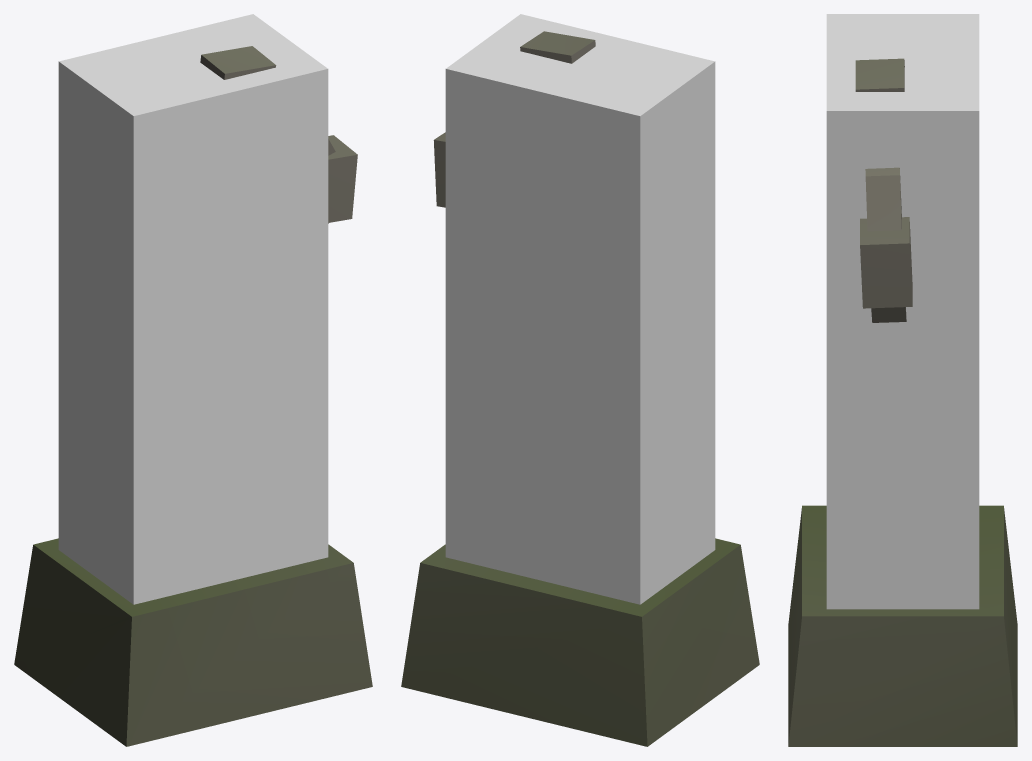
File: grave_cross.glb
3 views of the same model, side by side, from view 1: azimuth 30°, elevation 25°; view 2: azimuth 150°, elevation 25°; view 3: azimuth 270°, elevation 25° (orthographic). The views are drawn at different scales.
Visible parts, largest first — view 1: COL_cross, grave_cross; view 2: COL_cross, grave_cross; view 3: COL_cross, grave_cross.
Boxes of the visible parts, bbox=[...] form: COL_cross: bbox=[58, 14, 328, 604]; grave_cross: bbox=[14, 46, 372, 746]; COL_cross: bbox=[445, 14, 715, 604]; grave_cross: bbox=[401, 31, 759, 746]; COL_cross: bbox=[826, 14, 979, 609]; grave_cross: bbox=[788, 58, 1017, 746].
Bounding box in the file's own units: 0.8225 × 1.82 × 0.6.
